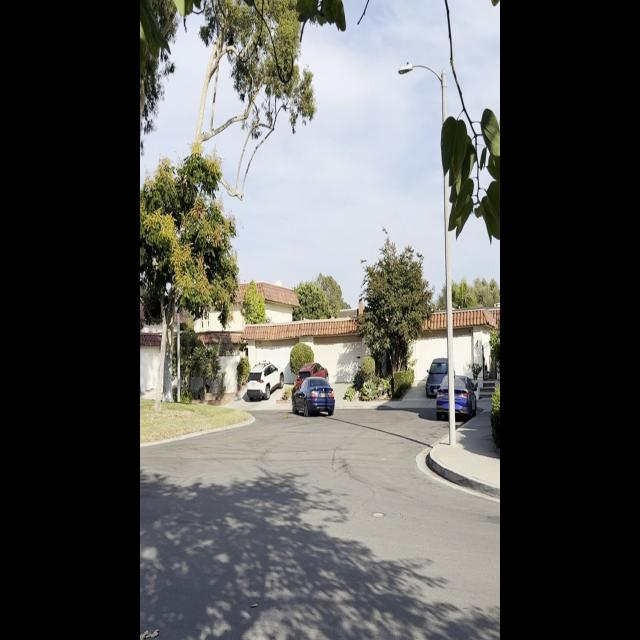Carbeetle: (292, 374, 335, 421)
Civilian: (432, 369, 479, 426), (246, 356, 286, 401), (425, 347, 456, 399), (294, 357, 330, 399)
